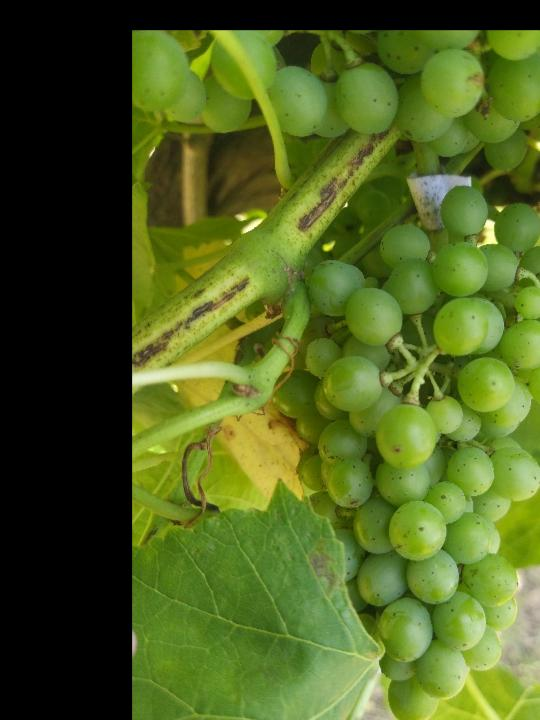grape: (272, 186, 540, 720)
